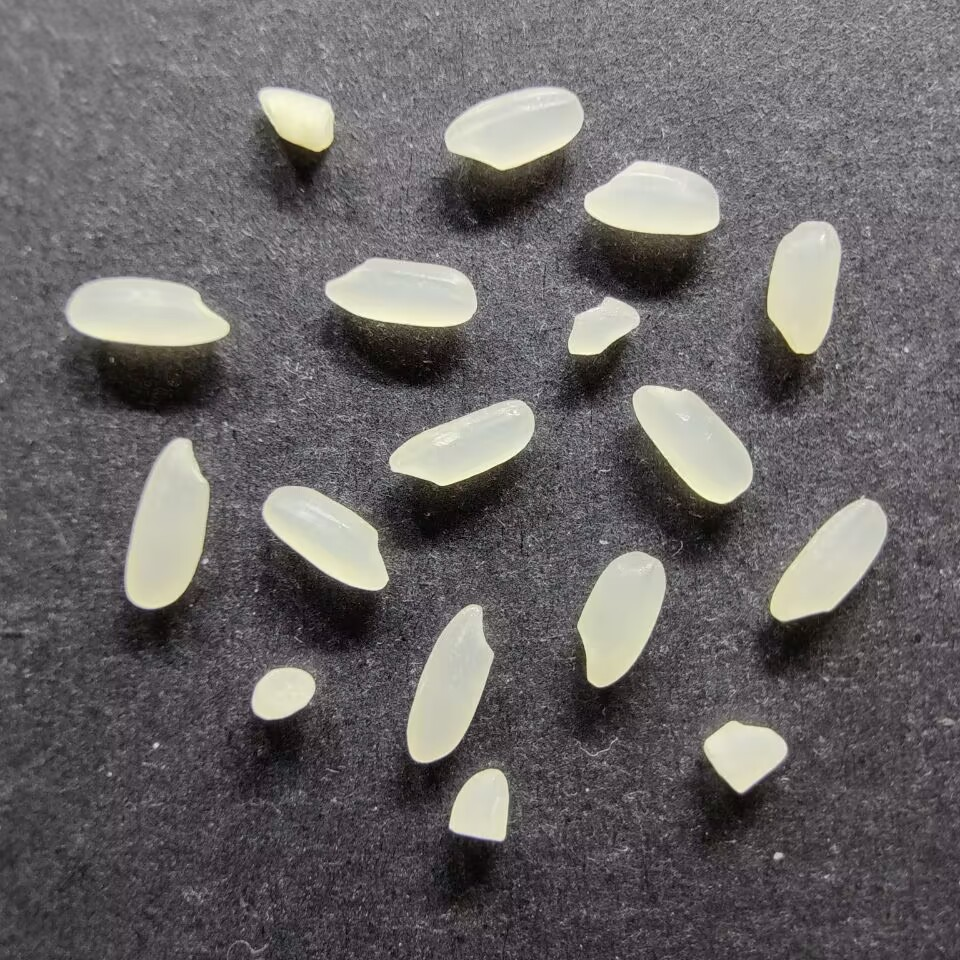broken: (702, 719, 788, 794), (257, 86, 335, 152), (446, 767, 509, 842), (566, 296, 640, 356), (250, 666, 315, 720)
rice: (123, 436, 210, 609), (768, 498, 888, 622), (631, 384, 752, 504), (405, 604, 493, 763), (261, 485, 389, 591), (388, 398, 534, 487), (577, 550, 666, 688), (443, 85, 583, 170), (66, 276, 229, 347), (323, 257, 477, 328), (583, 160, 721, 235), (765, 219, 841, 355)
